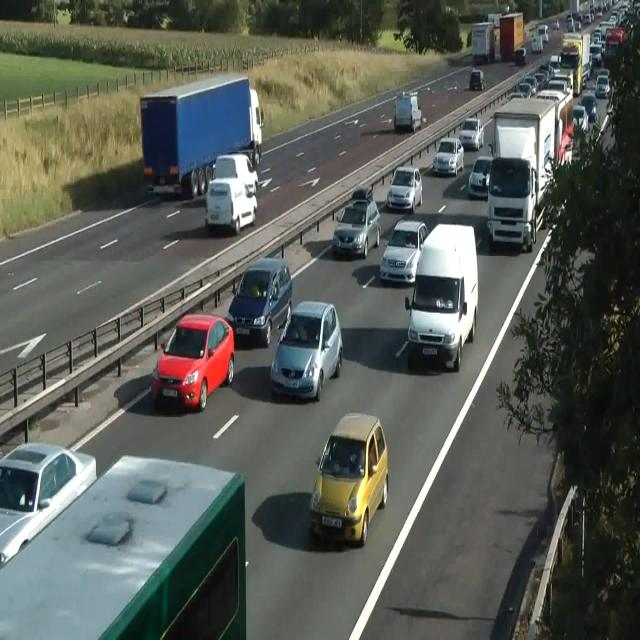bus: (0, 441, 97, 569), (151, 313, 235, 412), (380, 218, 428, 284), (386, 166, 422, 213), (432, 137, 464, 176), (468, 156, 494, 199), (458, 117, 484, 151), (578, 92, 598, 124), (572, 104, 588, 134), (351, 182, 373, 203), (508, 82, 532, 100), (469, 69, 485, 91), (514, 44, 526, 65), (531, 36, 543, 54), (538, 25, 548, 43), (552, 18, 560, 29)
jeep: (404, 222, 478, 372), (309, 411, 389, 546), (269, 299, 343, 401), (228, 256, 292, 347), (487, 156, 537, 252), (204, 178, 257, 235), (332, 197, 380, 259), (212, 152, 258, 196)
minibus: (0, 451, 246, 639), (140, 74, 264, 199), (486, 87, 574, 253), (470, 10, 526, 66), (548, 32, 592, 96), (499, 11, 526, 65), (394, 90, 422, 132), (471, 21, 495, 64)
